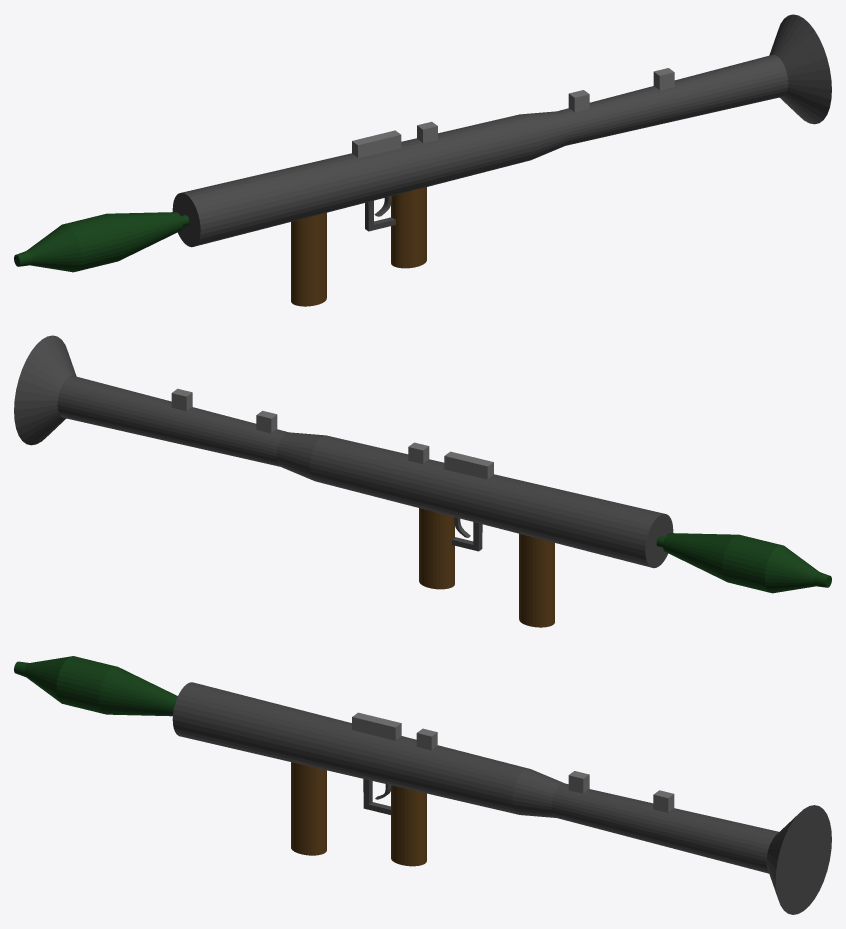
The model's file is Rocket Launcher.fbx.
The picture shows the model from 3 angles, top to bottom: view 1: azimuth 30°, elevation 25°; view 2: azimuth 150°, elevation 25°; view 3: azimuth 330°, elevation 25°; orthographic projection.
Parts seen in each view (by area): view 1: Cylinder, Rocket, Cylinder.002, Cylinder.001, Plane.001; view 2: Cylinder, Rocket, Cylinder.002, Cylinder.001, Plane.001; view 3: Cylinder, Rocket, Cylinder.002, Cylinder.001, Plane.001.
Part boxes in pixels (x1,y1,x2,y2): Cylinder: (172,14,831,247); Rocket: (14,212,189,272); Cylinder.002: (291,212,326,306); Cylinder.001: (391,187,426,268); Plane.001: (352,130,401,157); Cylinder: (14,335,673,568); Rocket: (656,533,831,593); Cylinder.002: (519,533,554,627); Cylinder.001: (419,508,454,589); Plane.001: (444,451,493,479); Cylinder: (172,682,831,914); Rocket: (14,656,177,716); Cylinder.002: (291,762,326,855); Cylinder.001: (391,785,426,866); Plane.001: (352,712,401,740).
Bounding box in the file's own units: 488 × 95.27 × 60.47.
